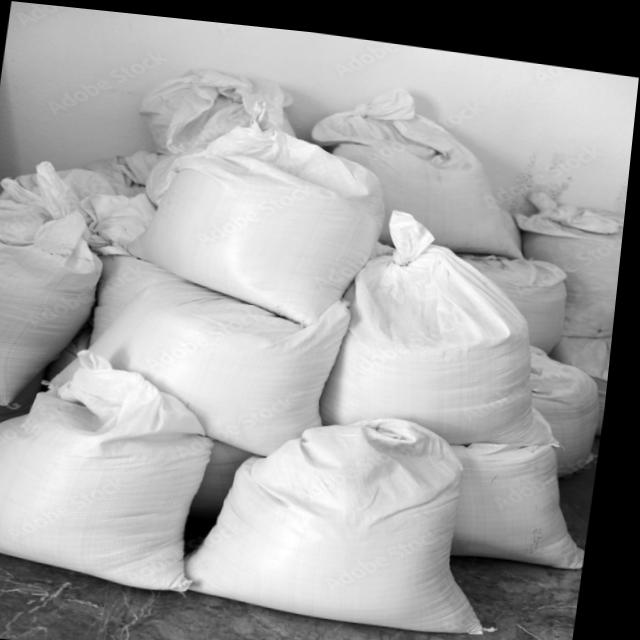sack: (191, 385, 522, 628), (326, 193, 590, 445), (81, 236, 362, 457), (129, 105, 399, 326), (0, 333, 226, 589), (301, 69, 546, 249), (0, 153, 120, 413), (447, 386, 610, 556), (495, 175, 629, 362), (132, 55, 302, 163)
